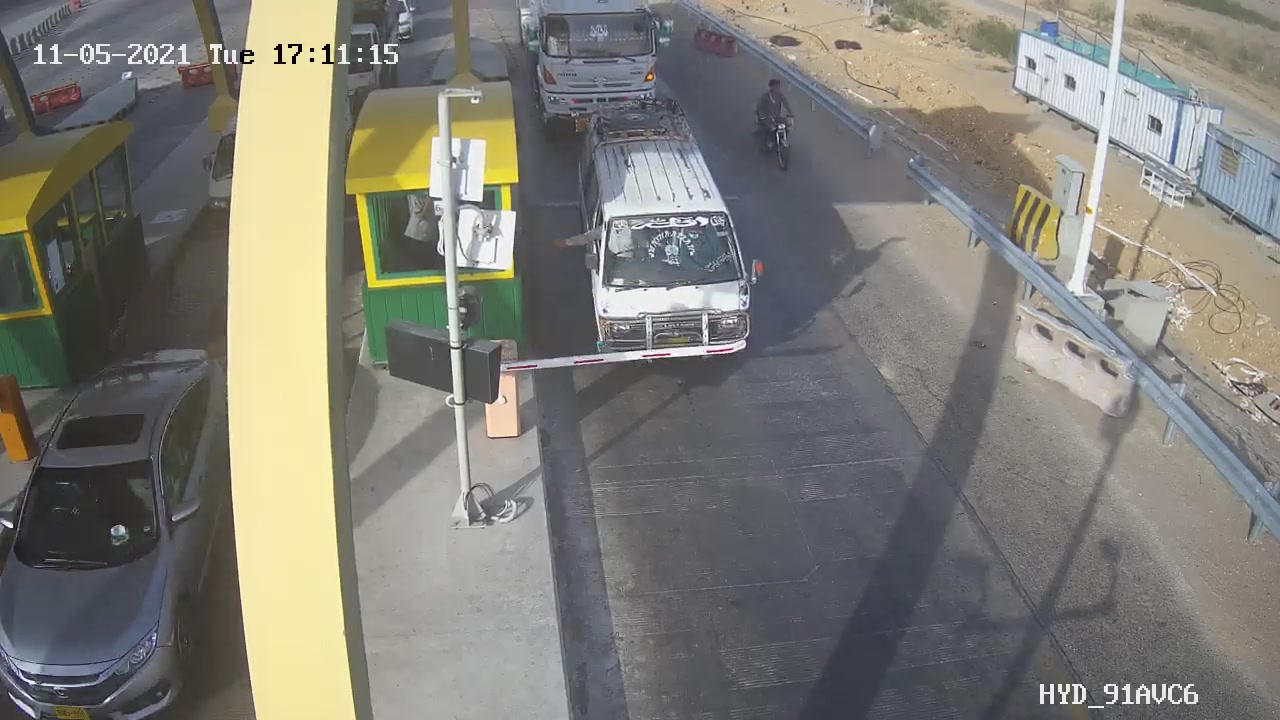F2: (548, 83, 789, 385)
